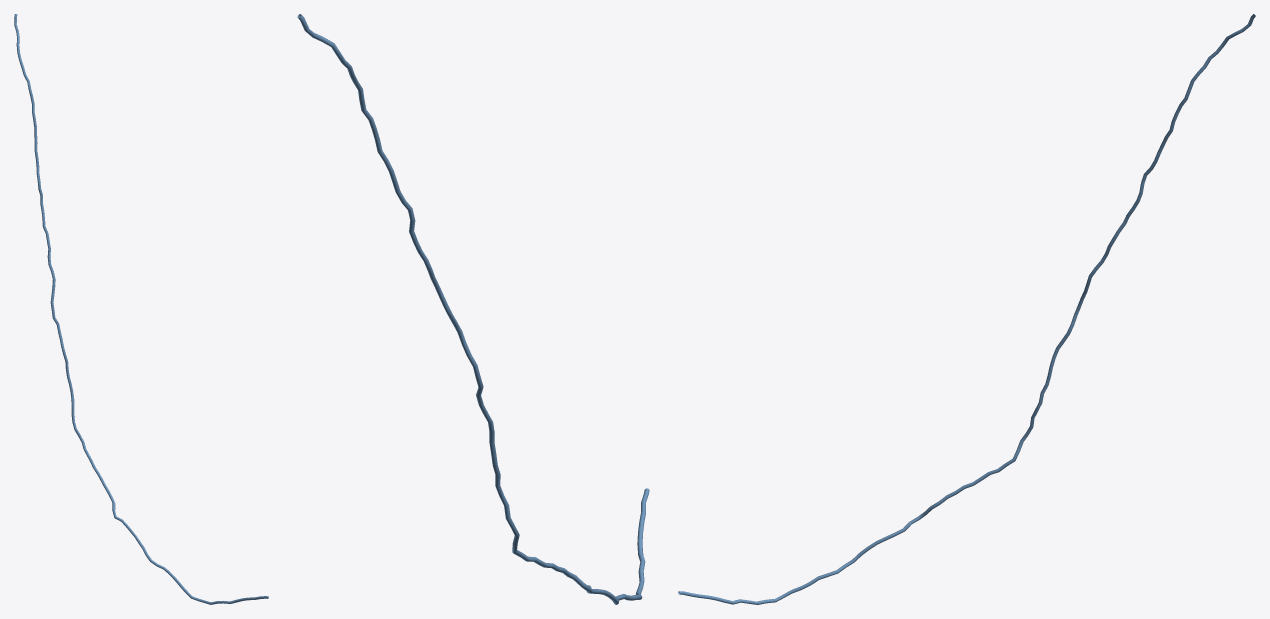
The model's file is sweep219.fbx.
3 views of the same model, side by side, from view 1: azimuth 30°, elevation 25°; view 2: azimuth 150°, elevation 25°; view 3: azimuth 270°, elevation 25° (orthographic). The views are drawn at different scales.
Parts seen in each view (by area): view 1: sweep219; view 2: sweep219; view 3: sweep219.
Boxes of the visible parts, x1=… form: sweep219: x1=14, y1=14, x2=268, y2=604; sweep219: x1=297, y1=14, x2=649, y2=604; sweep219: x1=678, y1=14, x2=1255, y2=604.
Size of the model in its own units: 0.5205 by 3.52 by 3.14.
